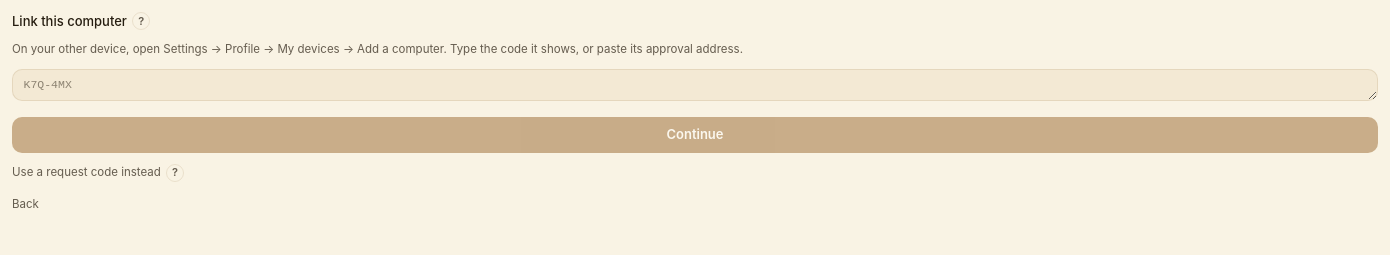
Test: LinkThisDevice › says when the codes don't match and offers to start again
In the text box named "The code or approval address from your other device": point(695, 85) [12,68,1378,101], type "ligusaddr1:abc"
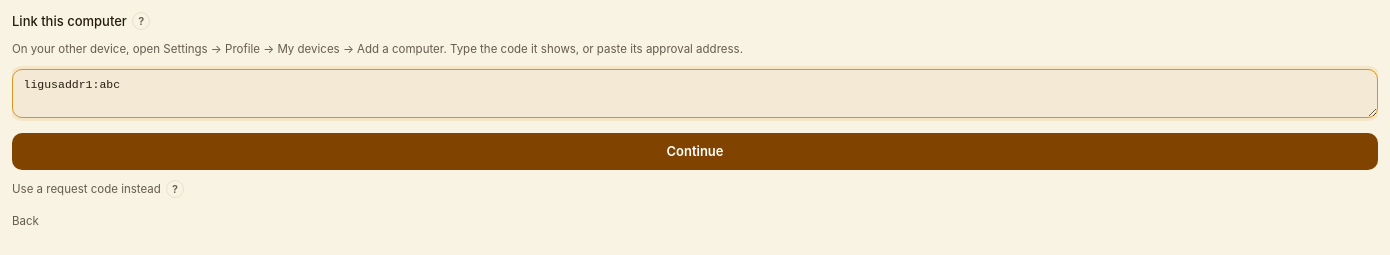
Click the button "Continue": point(695, 152) [12,133,1378,170]
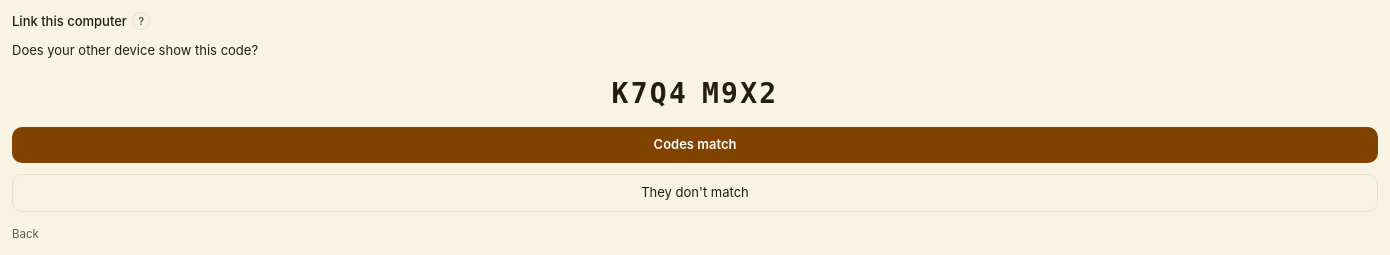
Click the button "They don't match": point(695, 193) [12,174,1378,212]
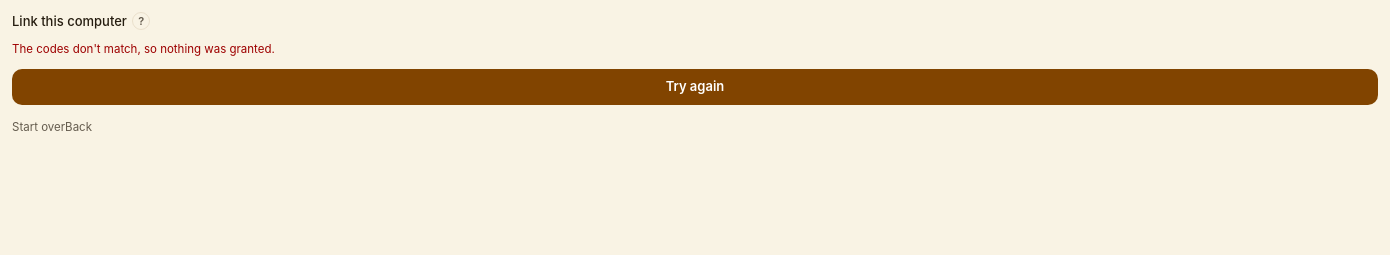
expect the text with test id "link-error" shows "nothing was granted": met, box [12,42,275,56]
